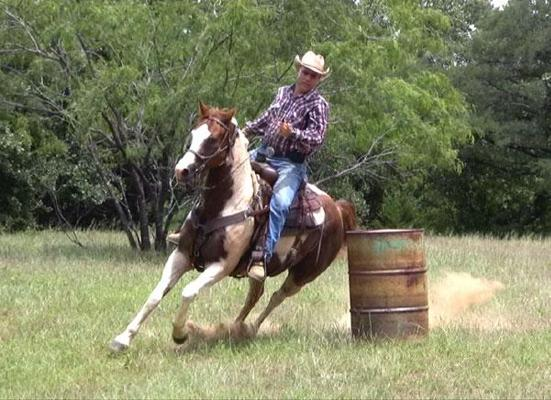person: (239, 49, 331, 284)
